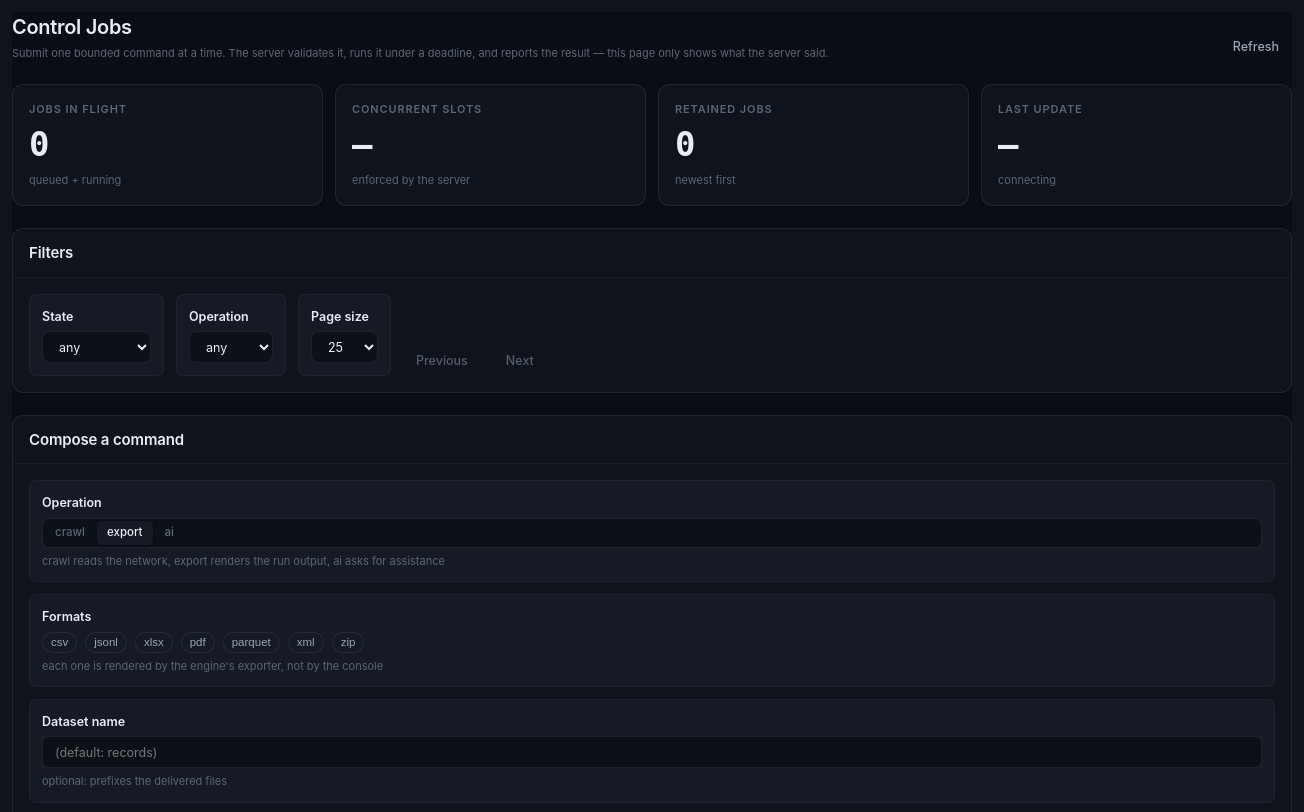
Test: Control Jobs page › renders the composer with the config's declared targets
Expected: the heading "Compose a command" is shown, x1=29 y1=428 x2=184 y2=451
Click the button "crawl": (70, 533) x1=45 y1=521 x2=95 y2=545
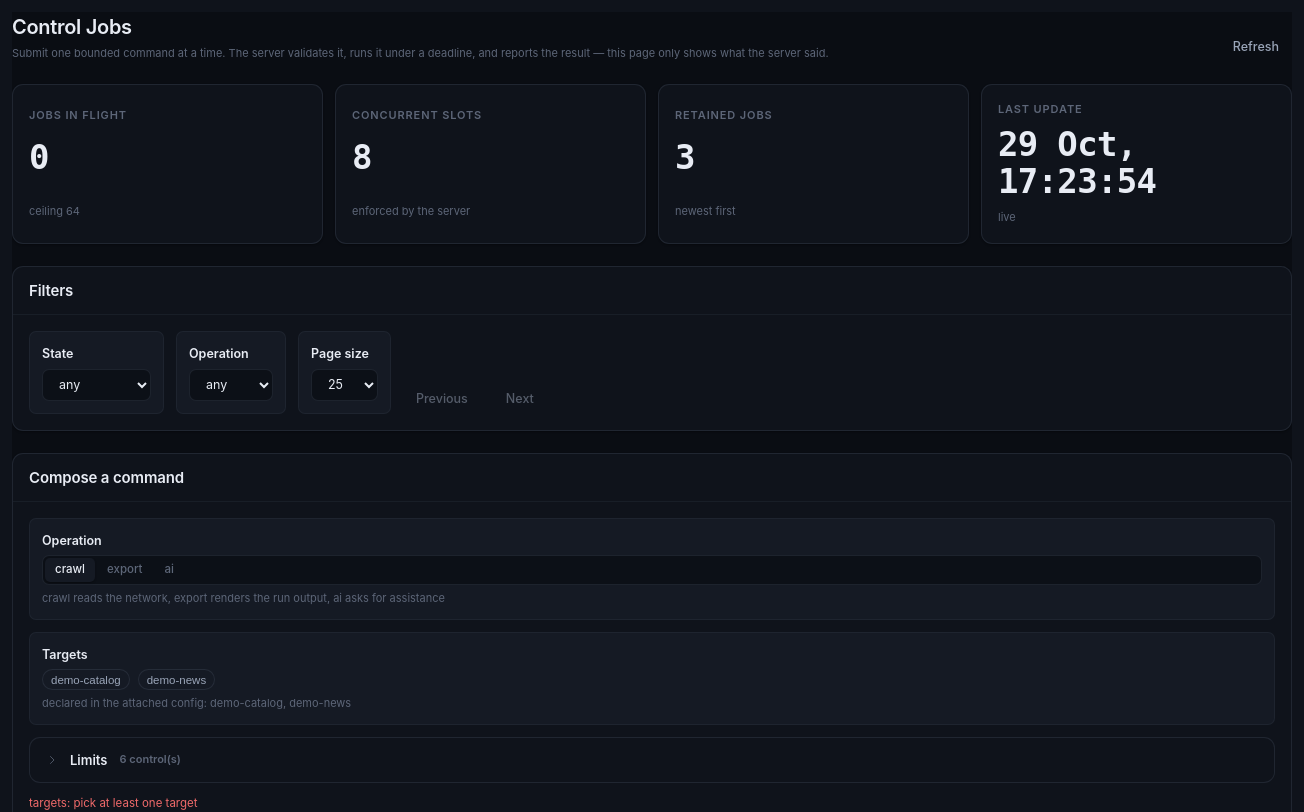
Result: the text "demo-catalog" is shown at x1=42 y1=669 x2=130 y2=690
